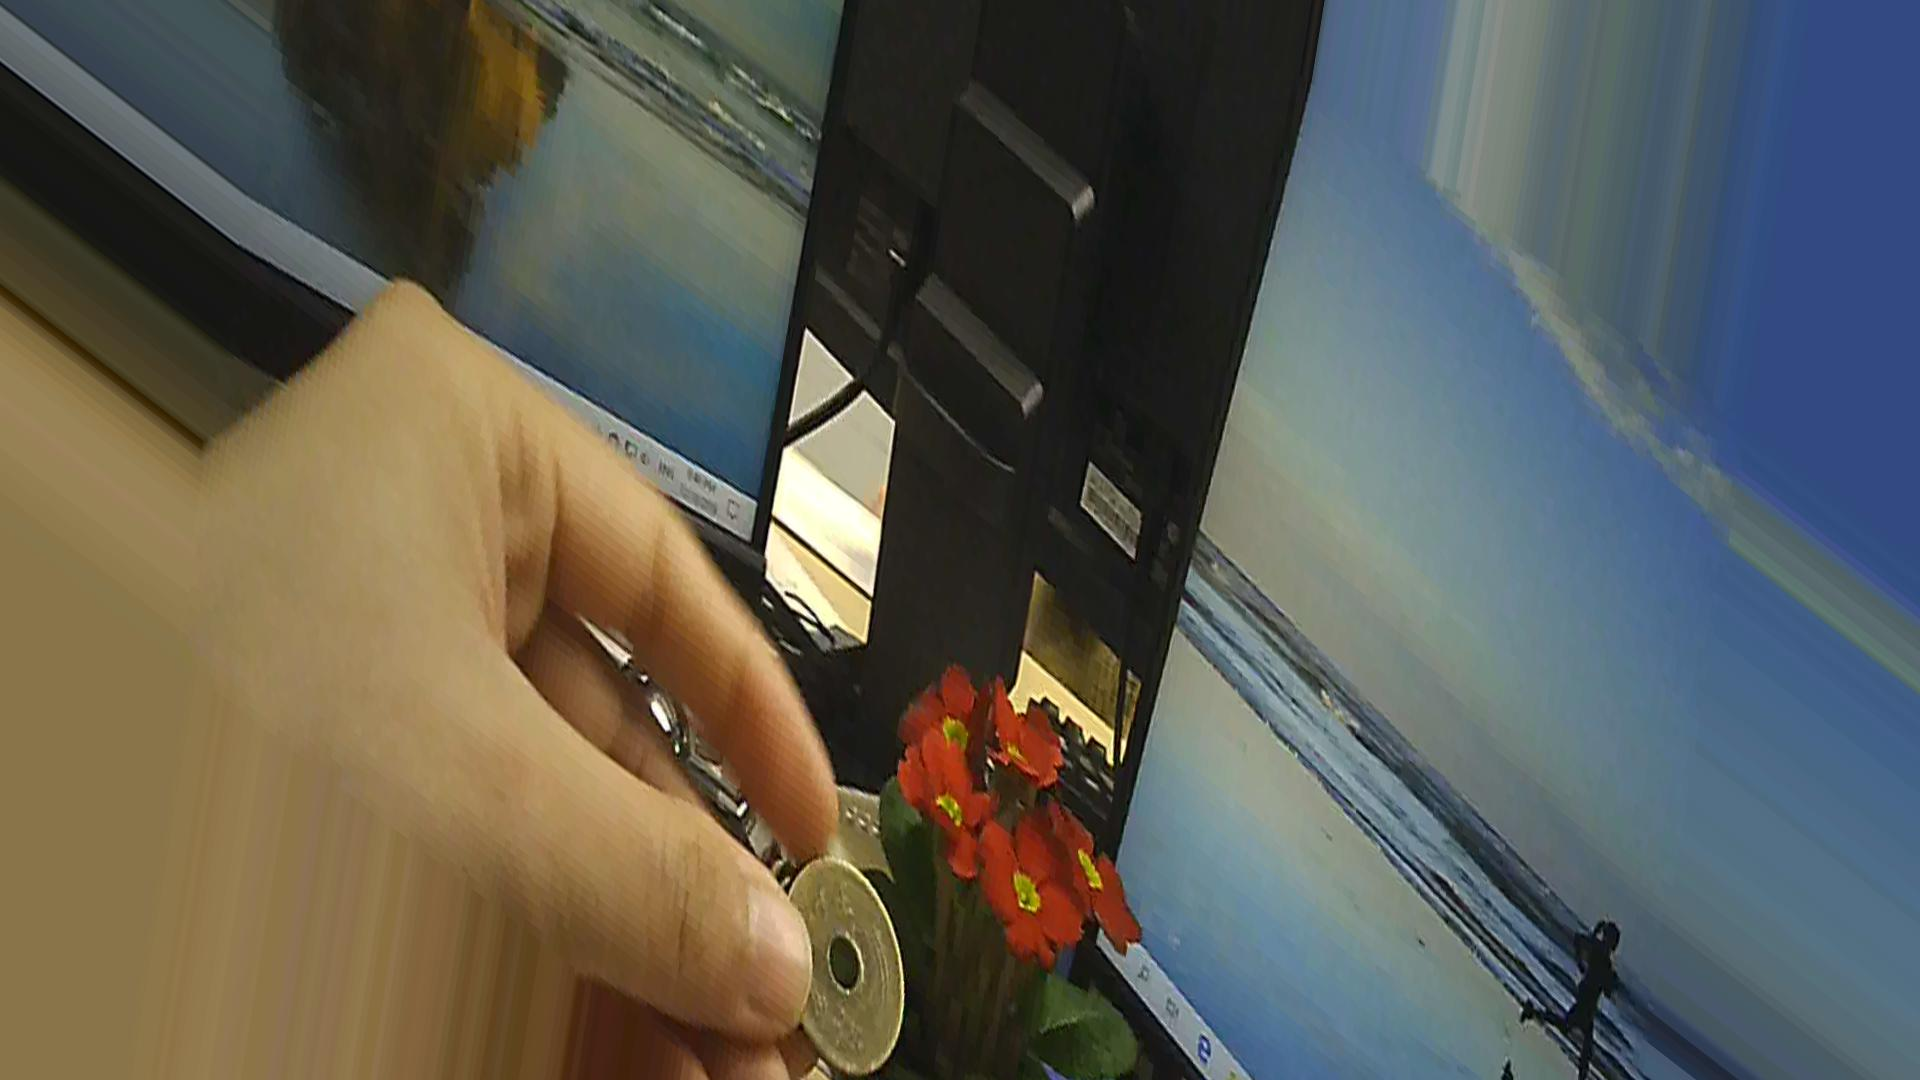5 Yen: (764, 844, 918, 1079)
